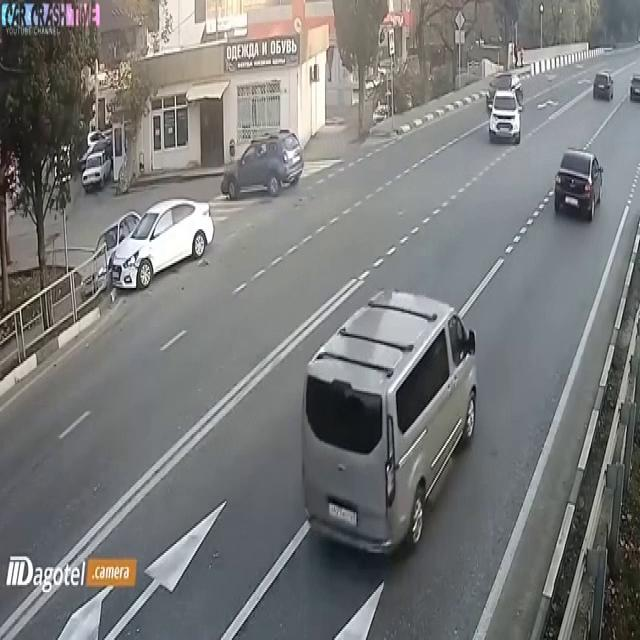accident: (81, 195, 218, 292)
